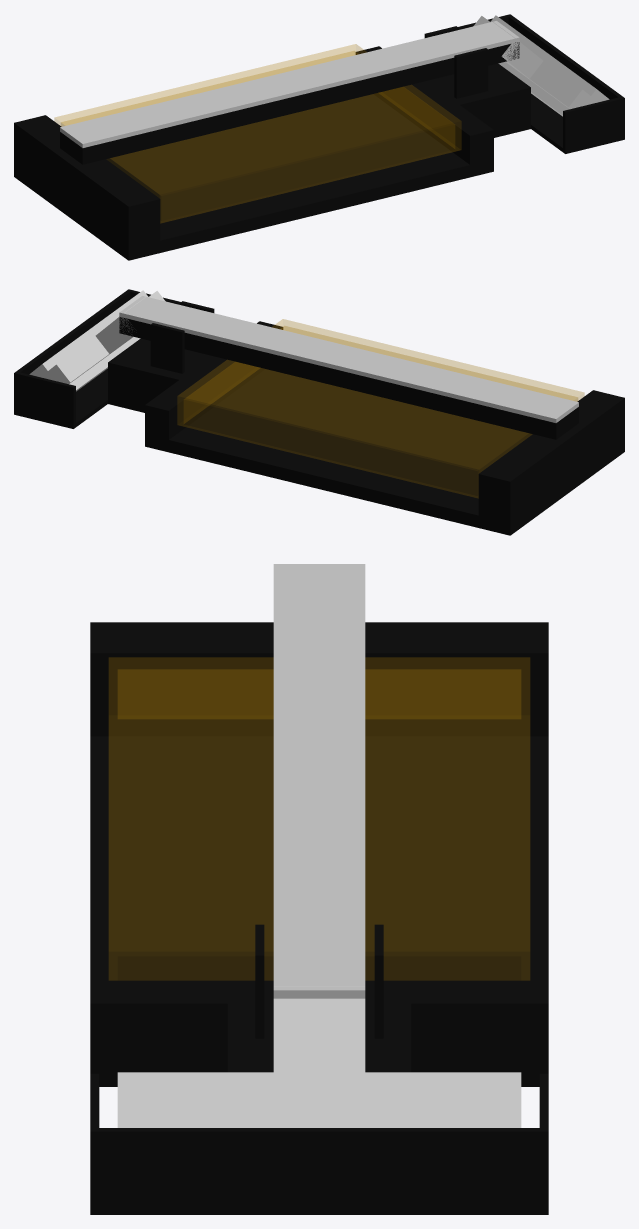
The model's file is Shaver.fbx.
3 views of the same model, one above another, from view 1: azimuth 30°, elevation 25°; view 2: azimuth 150°, elevation 25°; view 3: azimuth 270°, elevation 25° (orthographic). The views are drawn at different scales.
Visible parts, largest first — view 1: Raser; view 2: Raser; view 3: Raser.
Part boxes in pixels (x1,y1,x2,y2): Raser: (14, 14, 624, 260); Raser: (14, 289, 624, 535); Raser: (90, 564, 548, 1214).
Bounding box in the file's own units: 1250 × 200 × 500.
